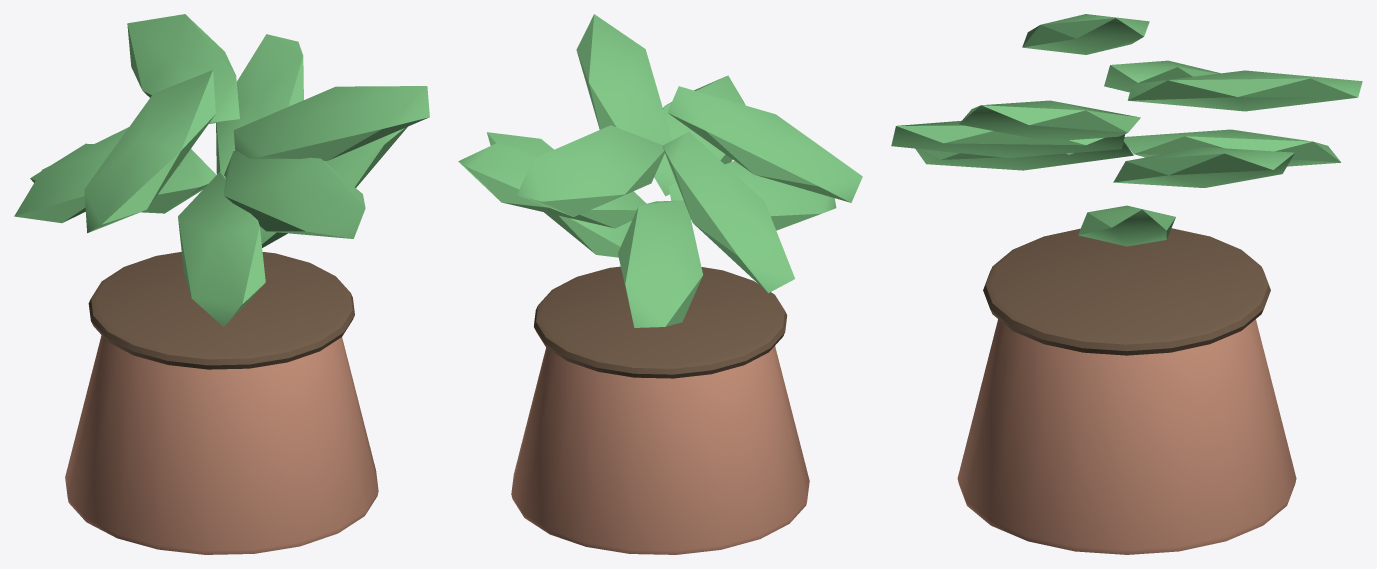
The model's file is prop_plant.glb.
3 views of the same model, side by side, from view 1: azimuth 30°, elevation 25°; view 2: azimuth 150°, elevation 25°; view 3: azimuth 270°, elevation 25° (orthographic). The views are drawn at different scales.
Parts seen in each view (by area): view 1: plant; view 2: plant; view 3: plant.
Boxes of the visible parts, bbox=[...] form: plant: bbox=[14, 14, 429, 554]; plant: bbox=[458, 14, 862, 554]; plant: bbox=[891, 14, 1362, 554].
Bounding box in the file's own units: 25.88 × 29.66 × 27.51.
